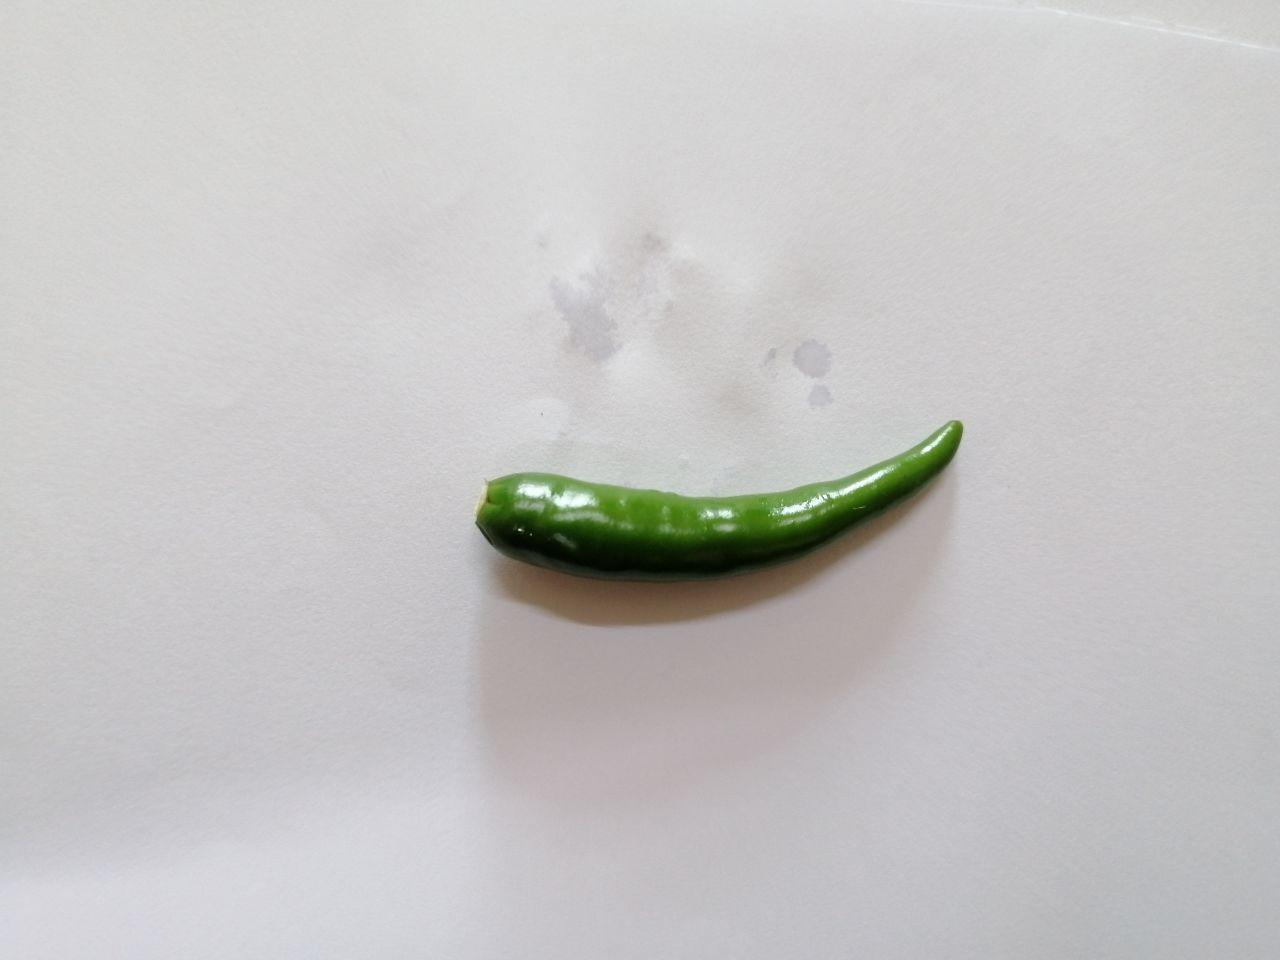lada hijau: (460, 399, 985, 627)
